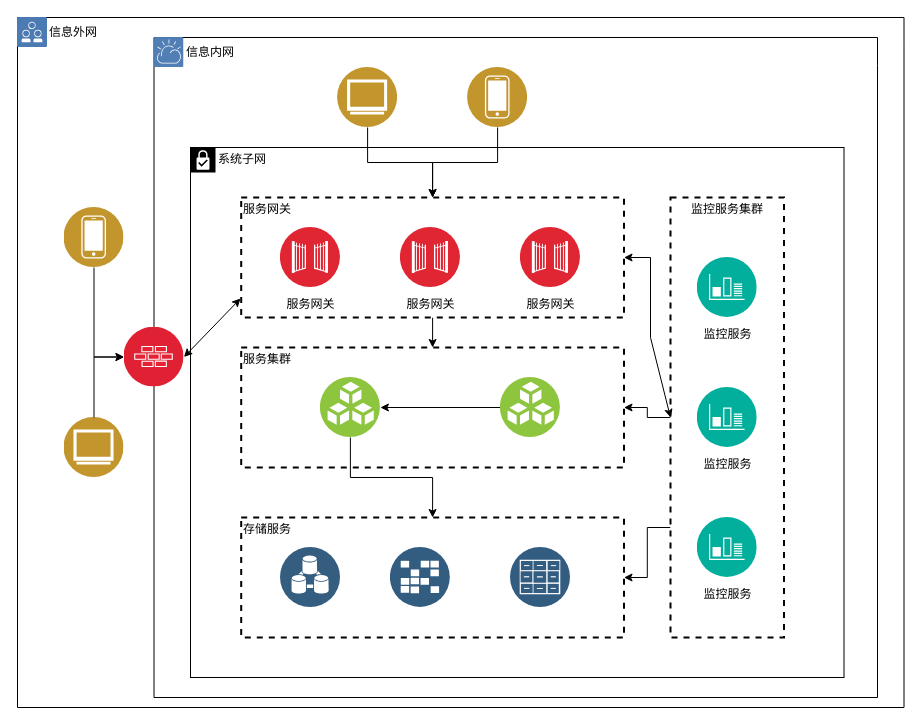
This 922x725 diagram has some shape labels left out. Here are the shapes that lost their labels. From the top down, the centre of each, then its label:
At (154,356): "隔离装置".
At (350,407): "接口服务集群".
At (530,407): "web服务集群".
At (310,577): "MySQL数据库".
At (420,577): "Redis缓存".
At (540,577): "MinIO对象存储".
